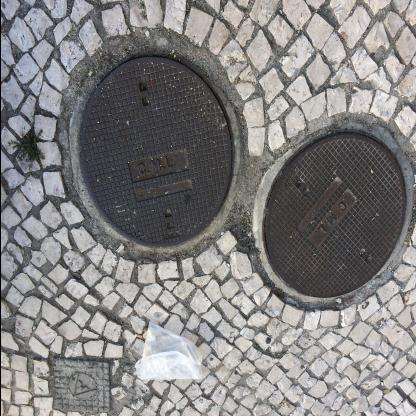plastik: (133, 320, 202, 380)
